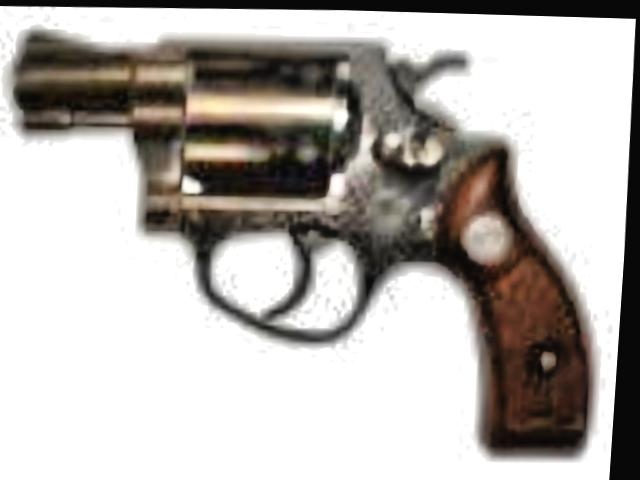pistol: (0, 15, 615, 455)
